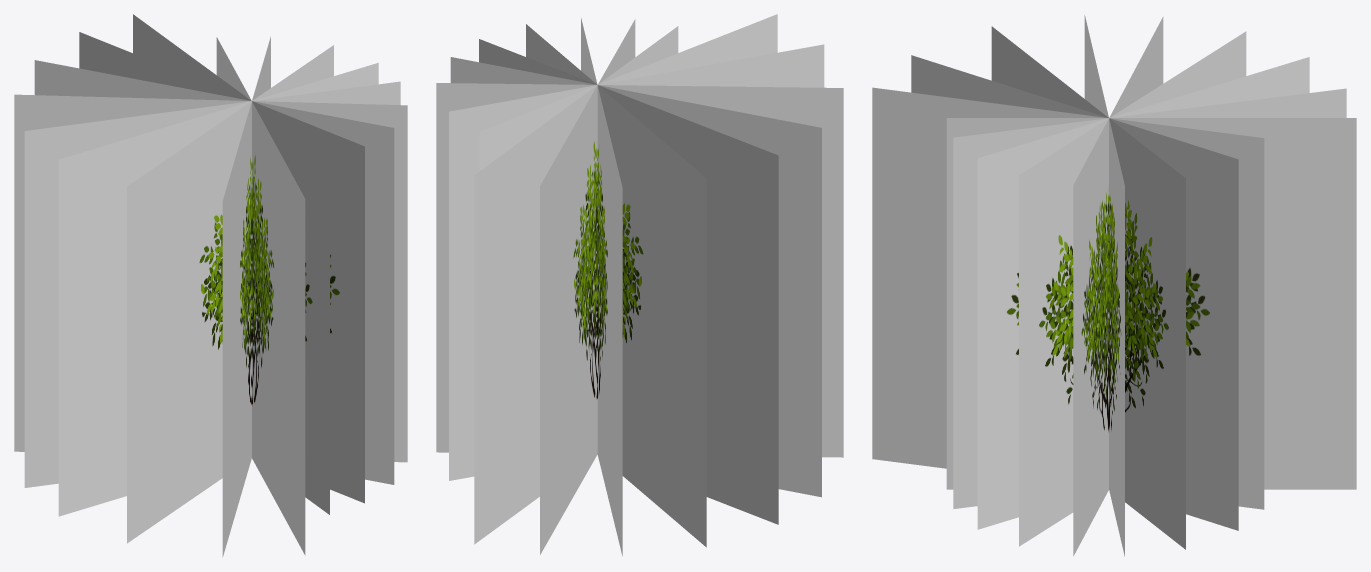
Rendered from bush1.fbx.
3 renders of one model, left to right at view 1: azimuth 30°, elevation 25°; view 2: azimuth 150°, elevation 25°; view 3: azimuth 270°, elevation 25°, orthographic. The views are drawn at different scales.
Visible parts, largest first — view 1: pPlane47; view 2: pPlane47; view 3: pPlane47.
Boxes of the visible parts, left/top/right/bottom form: pPlane47: left=14, top=14, right=407, bottom=557; pPlane47: left=436, top=14, right=843, bottom=556; pPlane47: left=872, top=15, right=1356, bottom=556.
Bounding box in the file's own units: 0.9951 × 1 × 1.18.
